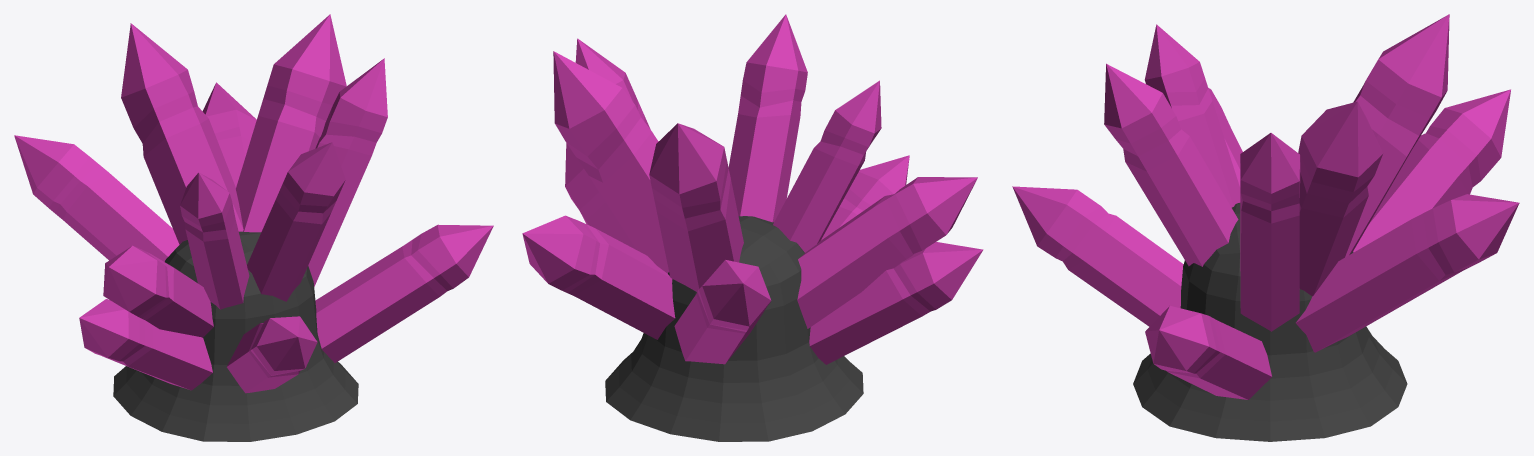
File: Mineral.glb
3 renders of one model, left to right at view 1: azimuth 30°, elevation 25°; view 2: azimuth 150°, elevation 25°; view 3: azimuth 270°, elevation 25°, orthographic. The views are drawn at different scales.
Parts seen in each view (by area): view 1: Mineral; view 2: Mineral; view 3: Mineral.
Boxes of the visible parts, <box> form: Mineral: <box>14,14,493,441</box>; Mineral: <box>522,14,983,441</box>; Mineral: <box>1012,14,1519,441</box>.
Bounding box in the file's own units: 0.152 × 0.113 × 0.146.
